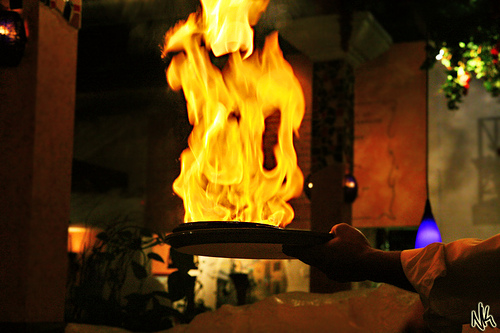fire: (181, 1, 289, 265)
